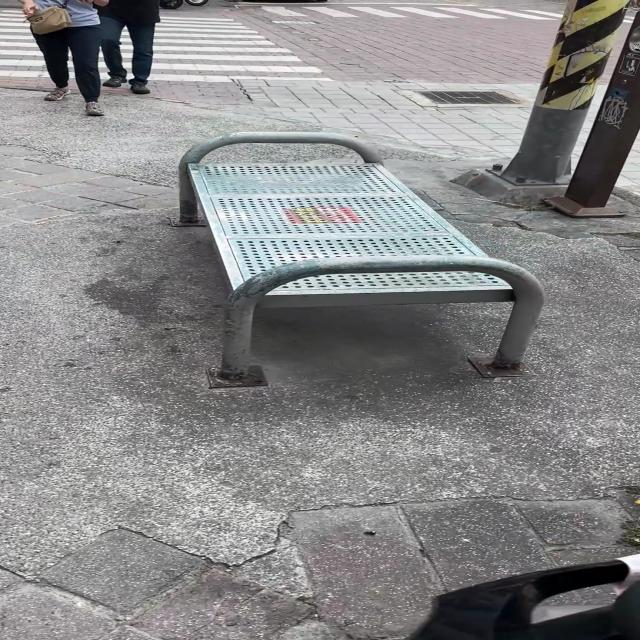chair: (174, 132, 543, 389)
